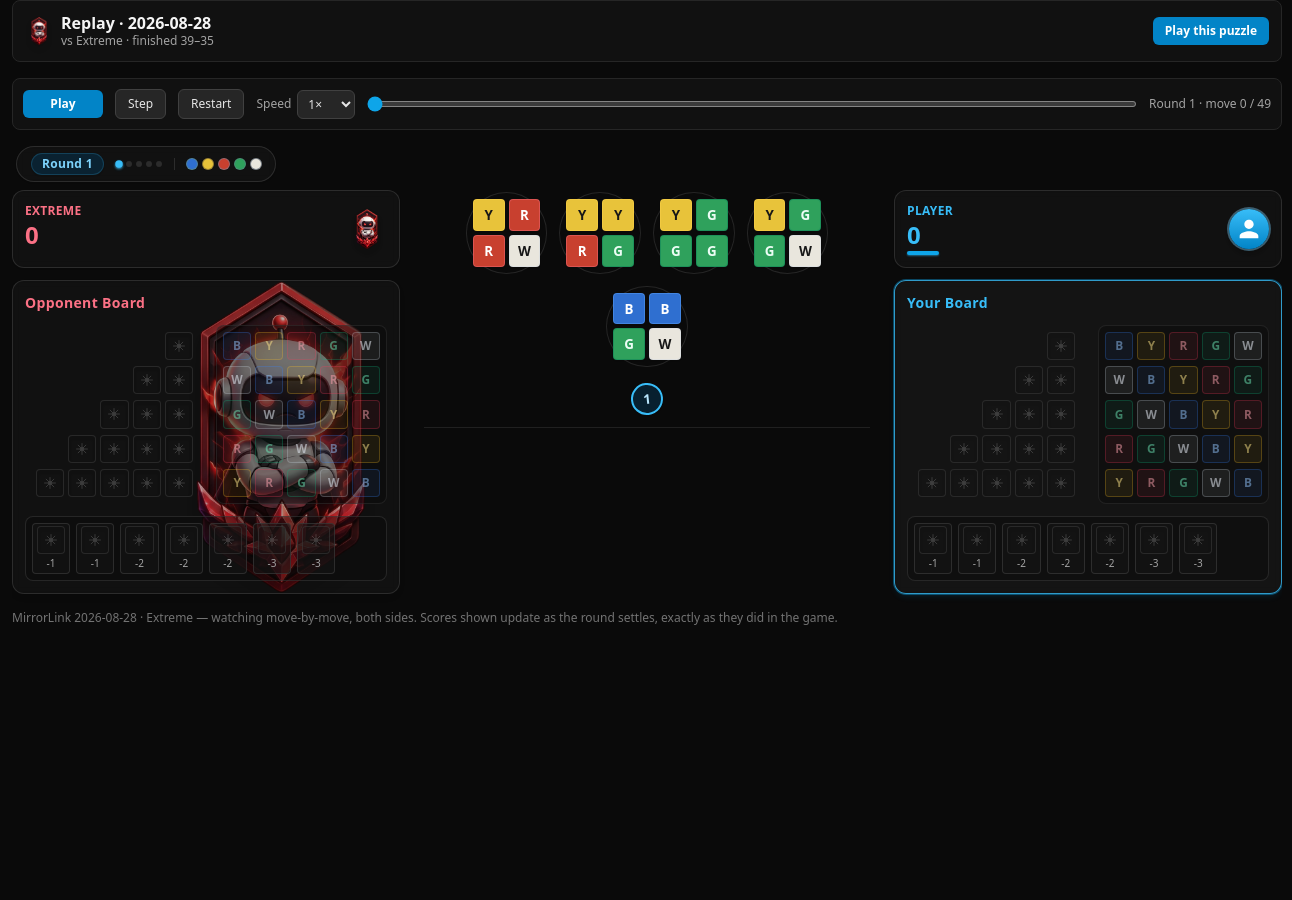
Test: the replay page › seeks to any move and back to the start
The image size is (1292, 900).
Expected: the text "Round 1 · move 0 / 49" is shown, [1149,96,1271,112]
Click the button "Step" at coordinates (141, 104), box [115,89,166,119]
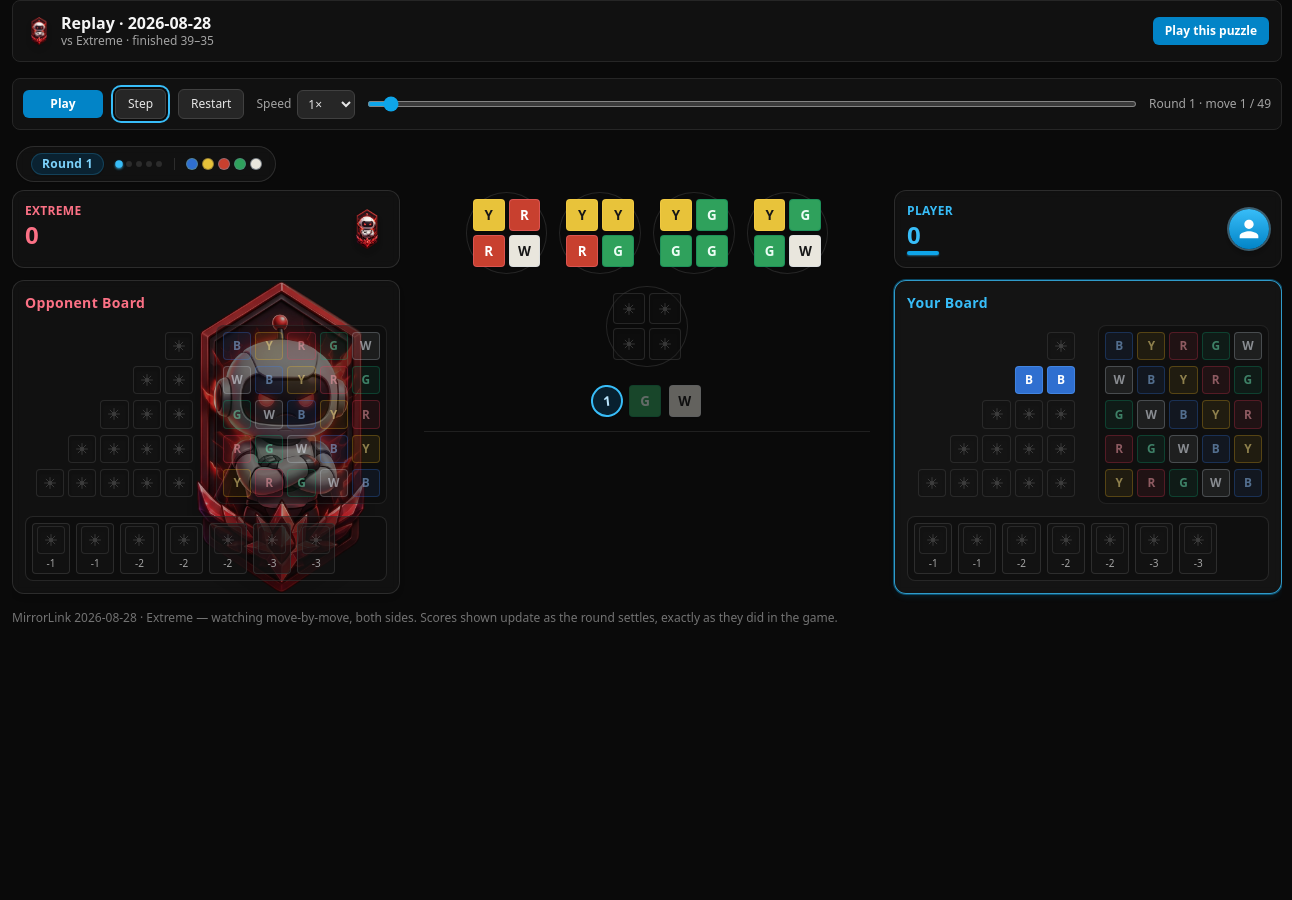
Now the text "Round 1 · move 1 / 49" is shown, box [1149,96,1271,112]
Click the button "Restart" at coordinates (211, 104), box [178,89,244,119]
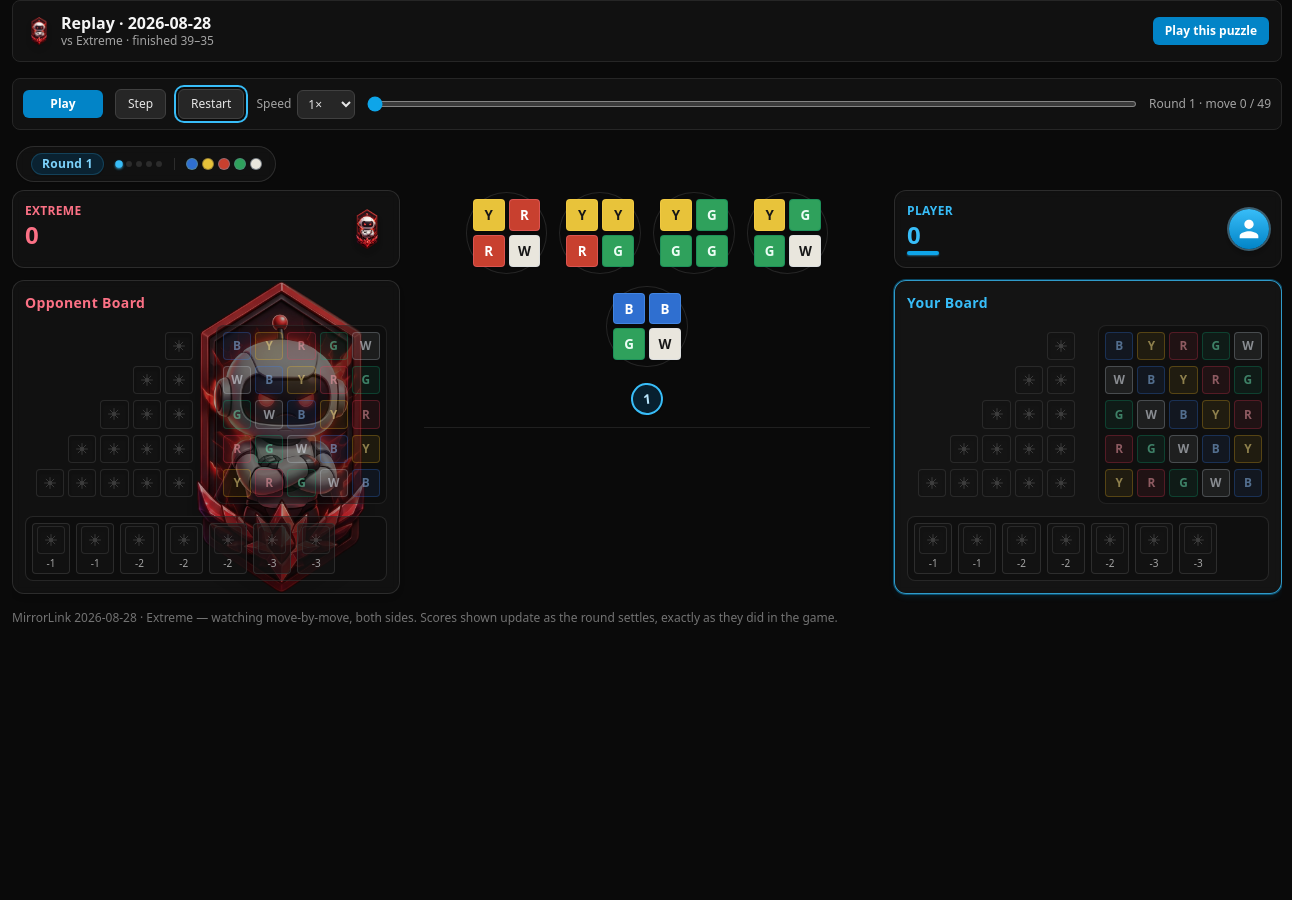
Now the text "Round 1 · move 0 / 49" is shown, box [1149,96,1271,112]
